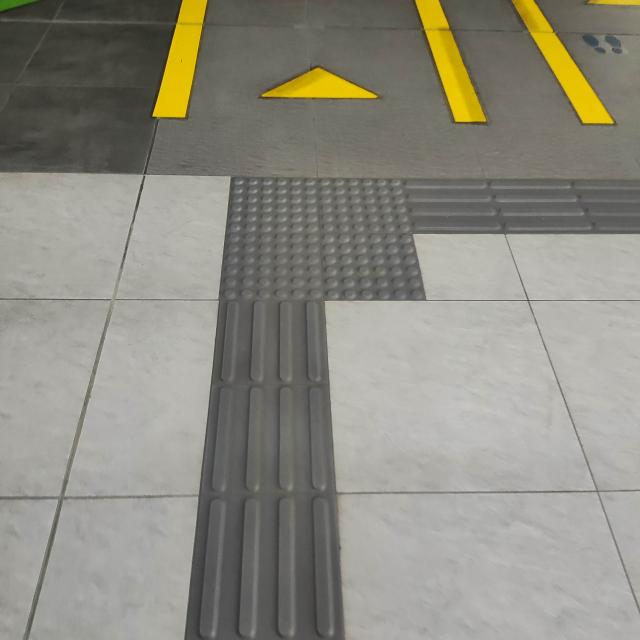kanan: (175, 142, 576, 322)
